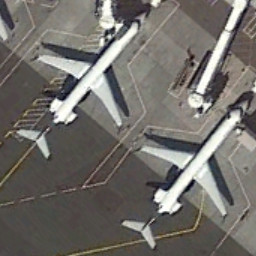Airplane: (118, 90, 254, 253), (12, 6, 155, 160)
